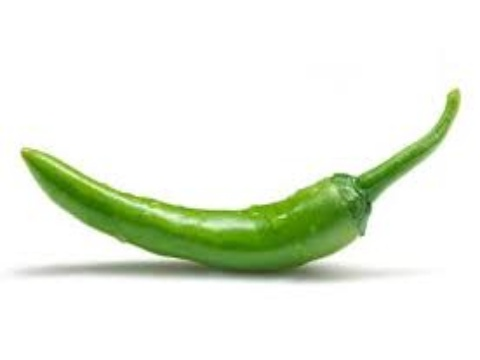Chilli: (10, 85, 468, 280)
